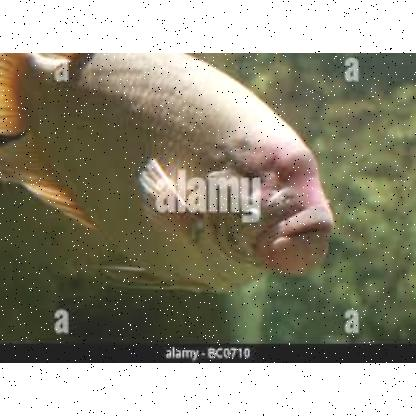gurame: (0, 52, 350, 296)
